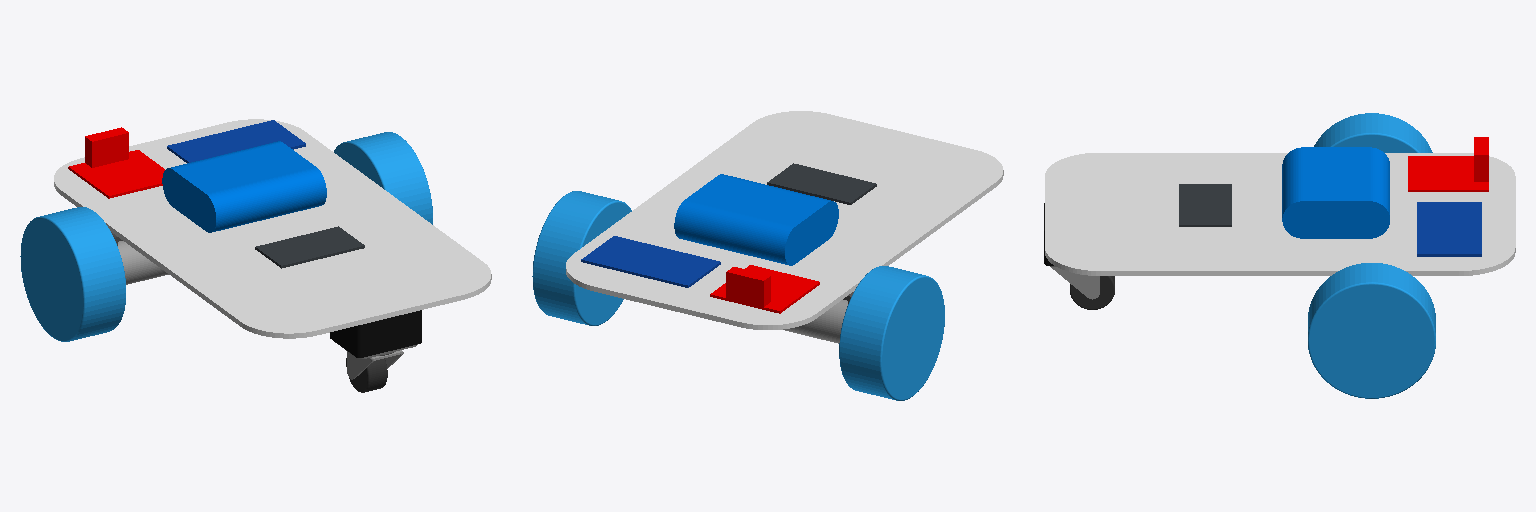
URDF robot description (rover_project):
<?xml version="1.0" ?>
<!-- Generated using onshape-to-robot -->
<!-- Onshape https://cad.onshape.com/documents/0ed9296ff390f80515613843/w/35d084064c575592900375b7/e/9a4ccac3dc7cdd259f95a2dc -->
<robot name="rover_project">
  <!-- Link base_link -->
  <link name="base_link">
    <inertial>
      <origin xyz="-0.00237104 0.0277886 -0.0201836" rpy="0 0 0"/>
      <mass value="0.353116"/>
      <inertia ixx="0.00151318" ixy="3.15767e-05" ixz="4.16765e-06" iyy="0.000366641" iyz="-9.9849e-05" izz="0.00182412"/>
    </inertial>
    <!-- Part left_motor -->
    <visual>
      <origin xyz="0.0160863 -0.0852797 0.272765" rpy="-4.78784e-16 1.5708 0"/>
      <geometry>
        <mesh filename="package://assets/meshes/left_motor.stl"/>
      </geometry>
      <material name="left_motor_material">
        <color rgba="0.647059 0.647059 0.647059 1"/>
      </material>
    </visual>
    <collision>
      <origin xyz="0.0160863 -0.0852797 0.272765" rpy="-4.78784e-16 1.5708 0"/>
      <geometry>
        <mesh filename="package://assets/meshes/left_motor.stl"/>
      </geometry>
    </collision>
    <!-- Part base_plate -->
    <visual>
      <origin xyz="-0.0886915 -0.18808 -0.0273587" rpy="0 -0 -1.5708"/>
      <geometry>
        <mesh filename="package://assets/meshes/base_plate.stl"/>
      </geometry>
      <material name="base_plate_material">
        <color rgba="0.917647 0.917647 0.917647 0.3"/>
      </material>
    </visual>
    <collision>
      <origin xyz="-0.0886915 -0.18808 -0.0273587" rpy="0 -0 -1.5708"/>
      <geometry>
        <mesh filename="package://assets/meshes/base_plate.stl"/>
      </geometry>
    </collision>
    <!-- Part front_wheel_upper_joint -->
    <visual>
      <origin xyz="-0.473714 0.0946882 -0.0468587" rpy="3.14159 -0 -3.14159"/>
      <geometry>
        <mesh filename="package://assets/meshes/front_wheel_upper_joint.stl"/>
      </geometry>
      <material name="front_wheel_upper_joint_material">
        <color rgba="0.498039 0.498039 0.498039 1"/>
      </material>
    </visual>
    <collision>
      <origin xyz="-0.473714 0.0946882 -0.0468587" rpy="3.14159 -0 -3.14159"/>
      <geometry>
        <mesh filename="package://assets/meshes/front_wheel_upper_joint.stl"/>
      </geometry>
    </collision>
    <!-- Part front_wheel_bracket -->
    <visual>
      <origin xyz="-0.472714 -0.220152 -0.0468587" rpy="0 -0 -3.14159"/>
      <geometry>
        <mesh filename="package://assets/meshes/front_wheel_bracket.stl"/>
      </geometry>
      <material name="front_wheel_bracket_material">
        <color rgba="0.101961 0.101961 0.101961 1"/>
      </material>
    </visual>
    <collision>
      <origin xyz="-0.472714 -0.220152 -0.0468587" rpy="0 -0 -3.14159"/>
      <geometry>
        <mesh filename="package://assets/meshes/front_wheel_bracket.stl"/>
      </geometry>
    </collision>
    <!-- Part left_motor_bracket -->
    <visual>
      <origin xyz="-0.148629 0.205404 -0.0273587" rpy="3.14159 -1.50383e-32 2.56739e-16"/>
      <geometry>
        <mesh filename="package://assets/meshes/left_motor_bracket.stl"/>
      </geometry>
      <material name="left_motor_bracket_material">
        <color rgba="0.352941 0.34902 0.34902 1"/>
      </material>
    </visual>
    <collision>
      <origin xyz="-0.148629 0.205404 -0.0273587" rpy="3.14159 -1.50383e-32 2.56739e-16"/>
      <geometry>
        <mesh filename="package://assets/meshes/left_motor_bracket.stl"/>
      </geometry>
    </collision>
    <!-- Part battery -->
    <visual>
      <origin xyz="-0.124871 0.0875749 -0.0243587" rpy="0 -0 -1.5708"/>
      <geometry>
        <mesh filename="package://assets/meshes/battery.stl"/>
      </geometry>
      <material name="battery_material">
        <color rgba="0.0117647 0.505882 0.905882 1"/>
      </material>
    </visual>
    <collision>
      <origin xyz="-0.124871 0.0875749 -0.0243587" rpy="0 -0 -1.5708"/>
      <geometry>
        <mesh filename="package://assets/meshes/battery.stl"/>
      </geometry>
    </collision>
    <!-- Part esp32 -->
    <visual>
      <origin xyz="0.119292 0.0944044 -0.0213587" rpy="0 -0 4.78784e-16"/>
      <geometry>
        <mesh filename="package://assets/meshes/esp32.stl"/>
      </geometry>
      <material name="esp32_material">
        <color rgba="0.262745 0.282353 0.301961 1"/>
      </material>
    </visual>
    <collision>
      <origin xyz="0.119292 0.0944044 -0.0213587" rpy="0 -0 4.78784e-16"/>
      <geometry>
        <mesh filename="package://assets/meshes/esp32.stl"/>
      </geometry>
    </collision>
    <!-- Part motor_controller -->
    <visual>
      <origin xyz="0.20396 0.300238 -0.0213587" rpy="0 -0 4.78784e-16"/>
      <geometry>
        <mesh filename="package://assets/meshes/motor_controller.stl"/>
      </geometry>
      <material name="motor_controller_material">
        <color rgba="1 0 0 1"/>
      </material>
    </visual>
    <collision>
      <origin xyz="0.20396 0.300238 -0.0213587" rpy="0 -0 4.78784e-16"/>
      <geometry>
        <mesh filename="package://assets/meshes/motor_controller.stl"/>
      </geometry>
    </collision>
    <!-- Part right_motor -->
    <visual>
      <origin xyz="-0.0190726 0.115532 0.272765" rpy="3.14159 1.5708 0"/>
      <geometry>
        <mesh filename="package://assets/meshes/right_motor.stl"/>
      </geometry>
      <material name="right_motor_material">
        <color rgba="0.647059 0.647059 0.647059 1"/>
      </material>
    </visual>
    <collision>
      <origin xyz="-0.0190726 0.115532 0.272765" rpy="3.14159 1.5708 0"/>
      <geometry>
        <mesh filename="package://assets/meshes/right_motor.stl"/>
      </geometry>
    </collision>
    <!-- Part voltage_regulator -->
    <visual>
      <origin xyz="0.26251 0.228404 -0.0213587" rpy="0 -0 4.78784e-16"/>
      <geometry>
        <mesh filename="package://assets/meshes/voltage_regulator.stl"/>
      </geometry>
      <material name="voltage_regulator_material">
        <color rgba="0.0862745 0.317647 0.690196 1"/>
      </material>
    </visual>
    <collision>
      <origin xyz="0.26251 0.228404 -0.0213587" rpy="0 -0 4.78784e-16"/>
      <geometry>
        <mesh filename="package://assets/meshes/voltage_regulator.stl"/>
      </geometry>
    </collision>
    <!-- Part right_motor_bracket -->
    <visual>
      <origin xyz="0.145642 0.00584812 -0.0273587" rpy="3.14159 3.25008e-48 -3.14159"/>
      <geometry>
        <mesh filename="package://assets/meshes/right_motor_bracket.stl"/>
      </geometry>
      <material name="right_motor_bracket_material">
        <color rgba="0.352941 0.34902 0.34902 1"/>
      </material>
    </visual>
    <collision>
      <origin xyz="0.145642 0.00584812 -0.0273587" rpy="3.14159 3.25008e-48 -3.14159"/>
      <geometry>
        <mesh filename="package://assets/meshes/right_motor_bracket.stl"/>
      </geometry>
    </collision>
  </link>
  <!-- Link left_wheel -->
  <link name="left_wheel">
    <inertial>
      <origin xyz="5.55112e-17 -2.77556e-17 -0.01325" rpy="0 0 0"/>
      <mass value="0.034"/>
      <inertia ixx="1.20063e-05" ixy="-8.31331e-37" ixz="1.64094e-36" iyy="1.20063e-05" iyz="7.55814e-38" izz="2.00404e-05"/>
    </inertial>
    <!-- Part left_wheel -->
    <visual>
      <origin xyz="0.464529 -0.127654 -0.0265" rpy="-9.4077e-33 -8.91891e-32 2.46302e-32"/>
      <geometry>
        <mesh filename="package://assets/meshes/left_wheel.stl"/>
      </geometry>
      <material name="left_wheel_material">
        <color rgba="0.176471 0.654902 0.937255 1"/>
      </material>
    </visual>
    <collision>
      <origin xyz="0.464529 -0.127654 -0.0265" rpy="-9.4077e-33 -8.91891e-32 2.46302e-32"/>
      <geometry>
        <mesh filename="package://assets/meshes/left_wheel.stl"/>
      </geometry>
    </collision>
  </link>
  <!-- Joint from base_plate to left_wheel -->
  <joint name="left_axle" type="continuous">
    <origin xyz="0.0797863 0.0611262 -0.0504087" rpy="1.5708 -3.88594e-16 -1.5708"/>
    <parent link="base_link"/>
    <child link="left_wheel"/>
    <axis xyz="0 0 1"/>
  </joint>
  <!-- Link right_wheel -->
  <link name="right_wheel">
    <inertial>
      <origin xyz="0 -3.44865e-32 -0.01325" rpy="0 0 0"/>
      <mass value="0.034"/>
      <inertia ixx="1.20063e-05" ixy="1.77587e-36" ixz="1.38229e-36" iyy="1.20063e-05" iyz="-4.2158e-37" izz="2.00404e-05"/>
    </inertial>
    <!-- Part right_wheel -->
    <visual>
      <origin xyz="0.464529 -0.0286537 -0.0265" rpy="-1.85031e-32 8.47446e-34 7.39557e-32"/>
      <geometry>
        <mesh filename="package://assets/meshes/right_wheel.stl"/>
      </geometry>
      <material name="right_wheel_material">
        <color rgba="0.176471 0.654902 0.937255 1"/>
      </material>
    </visual>
    <collision>
      <origin xyz="0.464529 -0.0286537 -0.0265" rpy="-1.85031e-32 8.47446e-34 7.39557e-32"/>
      <geometry>
        <mesh filename="package://assets/meshes/right_wheel.stl"/>
      </geometry>
    </collision>
  </link>
  <!-- Joint from base_plate to right_wheel -->
  <joint name="right_axle" type="continuous">
    <origin xyz="-0.0827726 0.0611262 -0.0504087" rpy="-1.06344e-15 1.5708 0"/>
    <parent link="base_link"/>
    <child link="right_wheel"/>
    <axis xyz="0 0 1"/>
  </joint>
  <!-- Link front_wheel_lower_joint -->
  <link name="front_wheel_lower_joint">
    <inertial>
      <origin xyz="0 0 0" rpy="0 0 0"/>
      <mass value="1e-09"/>
      <inertia ixx="1e-09" ixy="0" ixz="0" iyy="1e-09" iyz="0" izz="1e-09"/>
    </inertial>
    <!-- Part front_wheel_lower_joint -->
    <visual>
      <origin xyz="0.343294 -0.190212 0" rpy="3.14159 -0 6.16298e-33"/>
      <geometry>
        <mesh filename="package://assets/meshes/front_wheel_lower_joint.stl"/>
      </geometry>
      <material name="front_wheel_lower_joint_material">
        <color rgba="0.647059 0.647059 0.647059 1"/>
      </material>
    </visual>
    <collision>
      <origin xyz="0.343294 -0.190212 0" rpy="3.14159 -0 6.16298e-33"/>
      <geometry>
        <mesh filename="package://assets/meshes/front_wheel_lower_joint.stl"/>
      </geometry>
    </collision>
  </link>
  <!-- Link front_wheel -->
  <link name="front_wheel">
    <inertial>
      <origin xyz="0 0 0" rpy="0 0 0"/>
      <mass value="1e-09"/>
      <inertia ixx="1e-09" ixy="0" ixz="0" iyy="1e-09" iyz="0" izz="1e-09"/>
    </inertial>
    <!-- Part front_wheel -->
    <visual>
      <origin xyz="0.344734 -0.122278 0" rpy="3.14159 9.35883e-62 -2.53164e-47"/>
      <geometry>
        <mesh filename="package://assets/meshes/front_wheel.stl"/>
      </geometry>
      <material name="front_wheel_material">
        <color rgba="0.247059 0.247059 0.247059 1"/>
      </material>
    </visual>
    <collision>
      <origin xyz="0.344734 -0.122278 0" rpy="3.14159 9.35883e-62 -2.53164e-47"/>
      <geometry>
        <mesh filename="package://assets/meshes/front_wheel.stl"/>
      </geometry>
    </collision>
  </link>
  <!-- Joint from front_wheel_lower_joint to front_wheel -->
  <joint name="front_axle" type="continuous">
    <origin xyz="0.00635 0.00965 -0.0171132" rpy="-3.14159 -1.5708 0"/>
    <parent link="front_wheel_lower_joint"/>
    <child link="front_wheel"/>
    <axis xyz="0 0 1"/>
  </joint>
  <!-- Joint from base_plate to front_wheel_lower_joint -->
  <joint name="front_swivel" type="continuous">
    <origin xyz="-0.00149314 -0.0978738 -0.0503587" rpy="0 2.46519e-32 3.67761e-16"/>
    <parent link="base_link"/>
    <child link="front_wheel_lower_joint"/>
    <axis xyz="0 0 1"/>
  </joint>
</robot>

--- Render facts (derived) ---
3 views of the same robot in one strip: view 1: azimuth 30°, elevation 25°; view 2: azimuth 150°, elevation 25°; view 3: azimuth 270°, elevation 25° (orthographic).
Robot: rover_project — 5 links, 4 joints (4 continuous); root link base_link; default pose: all joints at 0.
Links seen in each view (by area): view 1: base_link, right_wheel, left_wheel, front_wheel, front_wheel_lower_joint; view 2: base_link, right_wheel, left_wheel; view 3: base_link, left_wheel, right_wheel, front_wheel, front_wheel_lower_joint.
Boxes of the visible links, bbox=[...] form: base_link: bbox=[54, 119, 491, 358]; right_wheel: bbox=[20, 207, 125, 341]; left_wheel: bbox=[334, 132, 432, 224]; front_wheel: bbox=[346, 358, 387, 392]; front_wheel_lower_joint: bbox=[347, 350, 403, 379]; base_link: bbox=[566, 111, 1003, 343]; right_wheel: bbox=[839, 266, 944, 400]; left_wheel: bbox=[532, 191, 631, 325]; base_link: bbox=[1044, 137, 1515, 275]; left_wheel: bbox=[1308, 263, 1435, 398]; right_wheel: bbox=[1314, 113, 1432, 152]; front_wheel: bbox=[1070, 276, 1114, 309]; front_wheel_lower_joint: bbox=[1051, 267, 1099, 299].
Size in the robot's own frame: 0.2156 by 0.2517 by 0.0825 metres.
15 mesh visuals loaded from 15 distinct referenced files (15 binary STL).